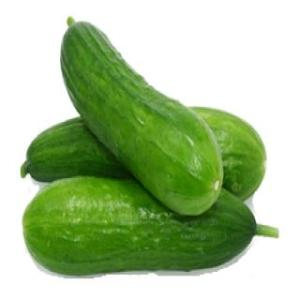cucumber: (59, 17, 222, 211), (20, 173, 256, 277), (26, 103, 270, 197)
